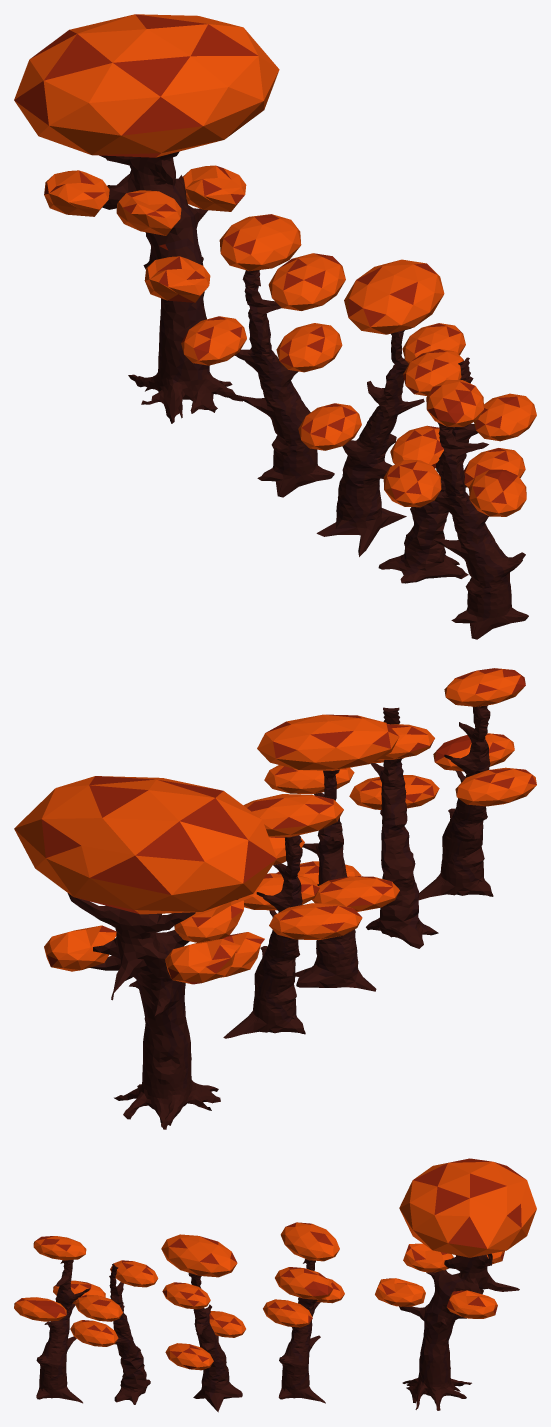
Rendered from TREES 1.fbx.
The picture shows the model from 3 angles, top to bottom: view 1: azimuth 30°, elevation 25°; view 2: azimuth 150°, elevation 25°; view 3: azimuth 270°, elevation 25°; orthographic projection. The views are drawn at different scales.
Parts seen in each view (by area): view 1: Icosphere.001, Cylinder, Cylinder.001, Icosphere.002, Icosphere.009; view 2: Icosphere.001, Cylinder.001, Cylinder, Icosphere.002, Icosphere.009; view 3: Icosphere.001, Cylinder.001, Cylinder, Icosphere.002, Icosphere.009.
Part boxes in pixels (x1,y1,x2,y2): Icosphere.001: (14, 14, 279, 423); Cylinder: (181, 214, 345, 497); Cylinder.001: (298, 259, 465, 556); Icosphere.002: (383, 380, 528, 639); Icosphere.009: (378, 349, 536, 583); Icosphere.001: (14, 776, 276, 1129); Cylinder.001: (257, 714, 399, 991); Cylinder: (223, 794, 362, 1038); Icosphere.002: (418, 668, 536, 900); Icosphere.009: (349, 707, 439, 948); Icosphere.001: (375, 1158, 536, 1410); Cylinder.001: (161, 1234, 245, 1412); Cylinder: (263, 1222, 344, 1403); Icosphere.002: (14, 1236, 105, 1403); Icosphere.009: (70, 1260, 158, 1404).
Bounding box in the file's own units: 889 × 1284 × 2680.
